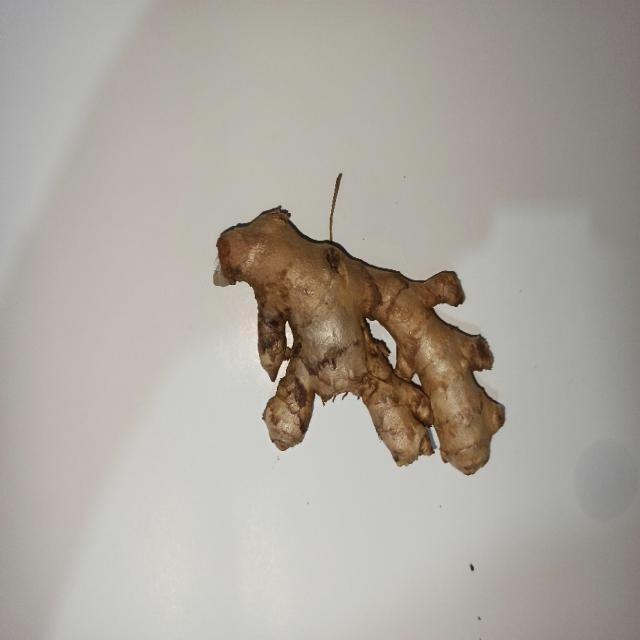ginger: (213, 204, 507, 476)
